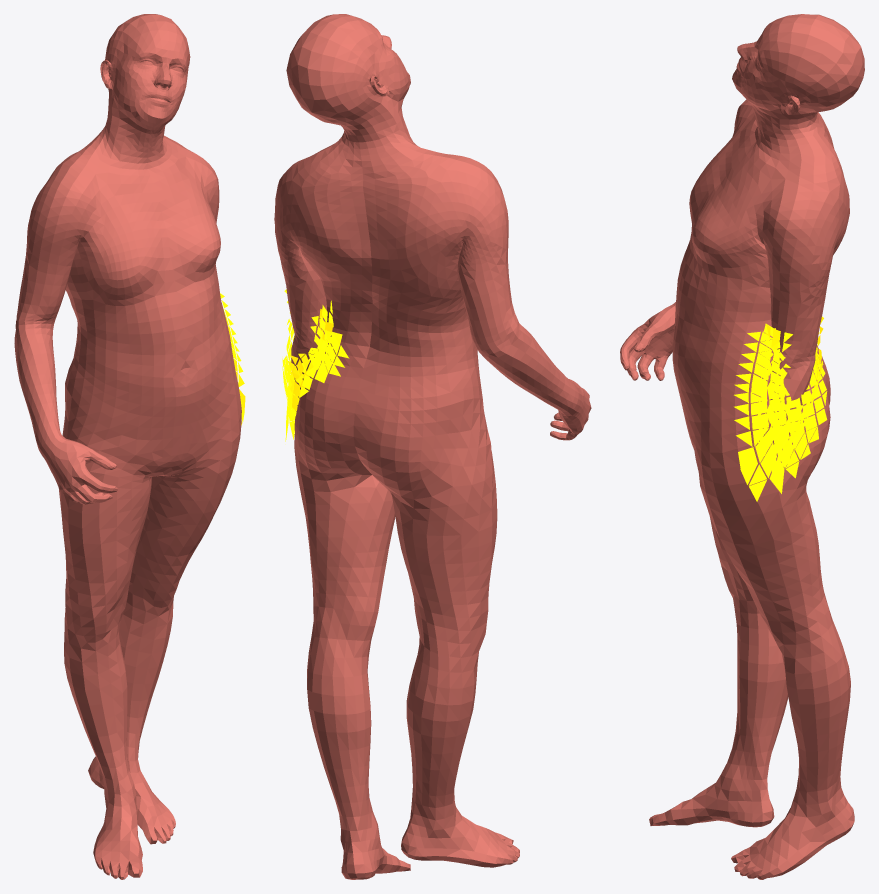
The model's file is hwc_collision_01.glb.
The picture shows the model from 3 angles, left to right: view 1: azimuth 30°, elevation 25°; view 2: azimuth 150°, elevation 25°; view 3: azimuth 270°, elevation 25°; orthographic projection. The views are drawn at different scales.
Visible parts, largest first — view 1: hwc_collision, collision_marker; view 2: hwc_collision, collision_marker; view 3: hwc_collision, collision_marker.
Part boxes in pixels (<box>): hwc_collision: <box>14,14,241,879</box>; collision_marker: <box>220,293,245,425</box>; hwc_collision: <box>274,14,591,879</box>; collision_marker: <box>282,289,349,441</box>; hwc_collision: <box>620,14,864,879</box>; collision_marker: <box>734,316,827,501</box>.
Size of the model in its own units: 0.5224 by 1.73 by 0.4443.
